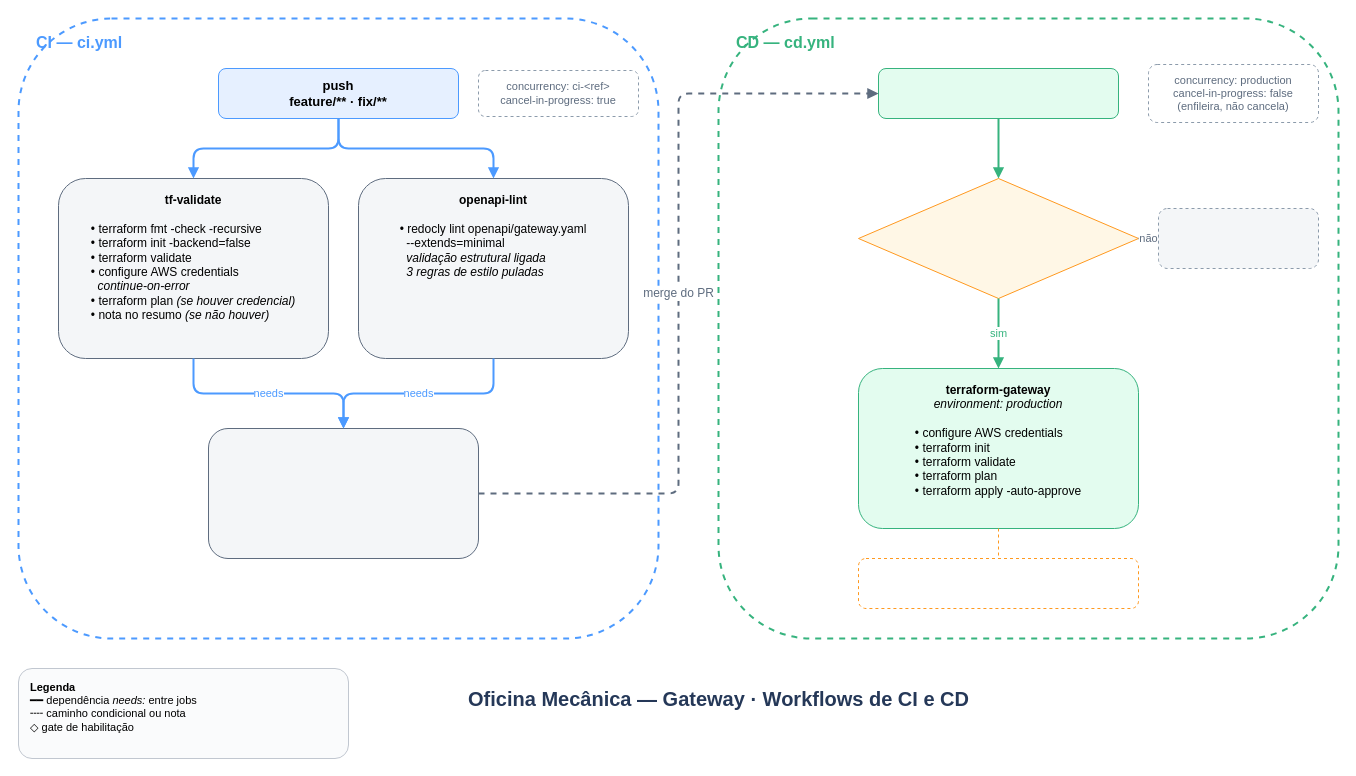
Image size: 1356x776. Some labels were removed from this diagram. The shapes that lost their labels are listed below. From the top down, each one's centre as x and y in pixels, then its label:
At (998,93): "push na main ou workflow_dispatch".
At (998,238): "gate vars.ENABLE_DEPLOY == 'true' OU workflow_dispatch".
At (1238,238): "skipped nada é provisionado".
At (343,493): "open-pr • gera GitHub App token • abre PR para main se não existir idempotente".
At (998,583): "verificação externa é manual — ver ci-cd.md".
